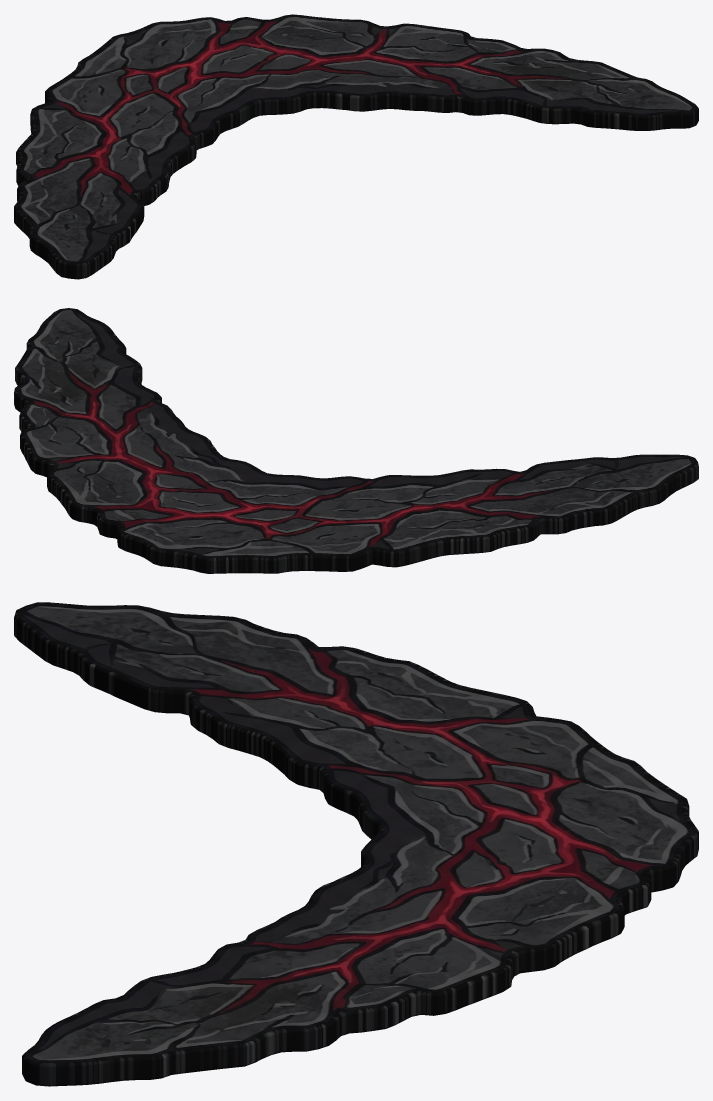
The model's file is Boomerang_20.fbx.
3 renders of one model, top to bottom at view 1: azimuth 30°, elevation 25°; view 2: azimuth 150°, elevation 25°; view 3: azimuth 270°, elevation 25°, orthographic. The views are drawn at different scales.
Visible parts, largest first — view 1: Boomerang_20; view 2: Boomerang_20; view 3: Boomerang_20.
Part boxes in pixels (box(x1,y1,x2,y2)): Boomerang_20: box(14, 14, 698, 279); Boomerang_20: box(14, 308, 698, 573); Boomerang_20: box(14, 602, 698, 1086).
Size of the model in its own units: 211 by 4.8 by 132.
Materials: 1 (1 with a texture image).
